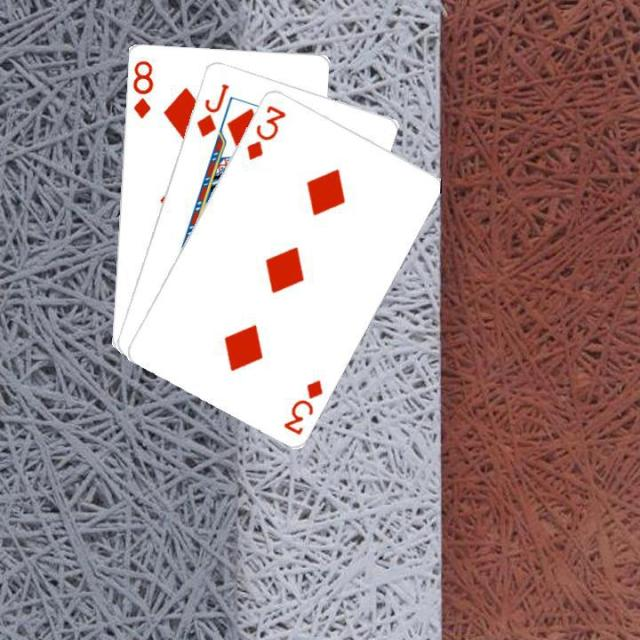3D: (242, 100, 288, 162), (279, 375, 325, 437)
8D: (129, 56, 155, 120)
JD: (192, 79, 231, 139)
